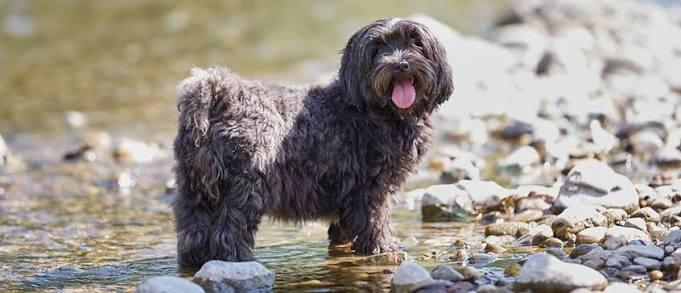adult_dog: (171, 17, 456, 275)
